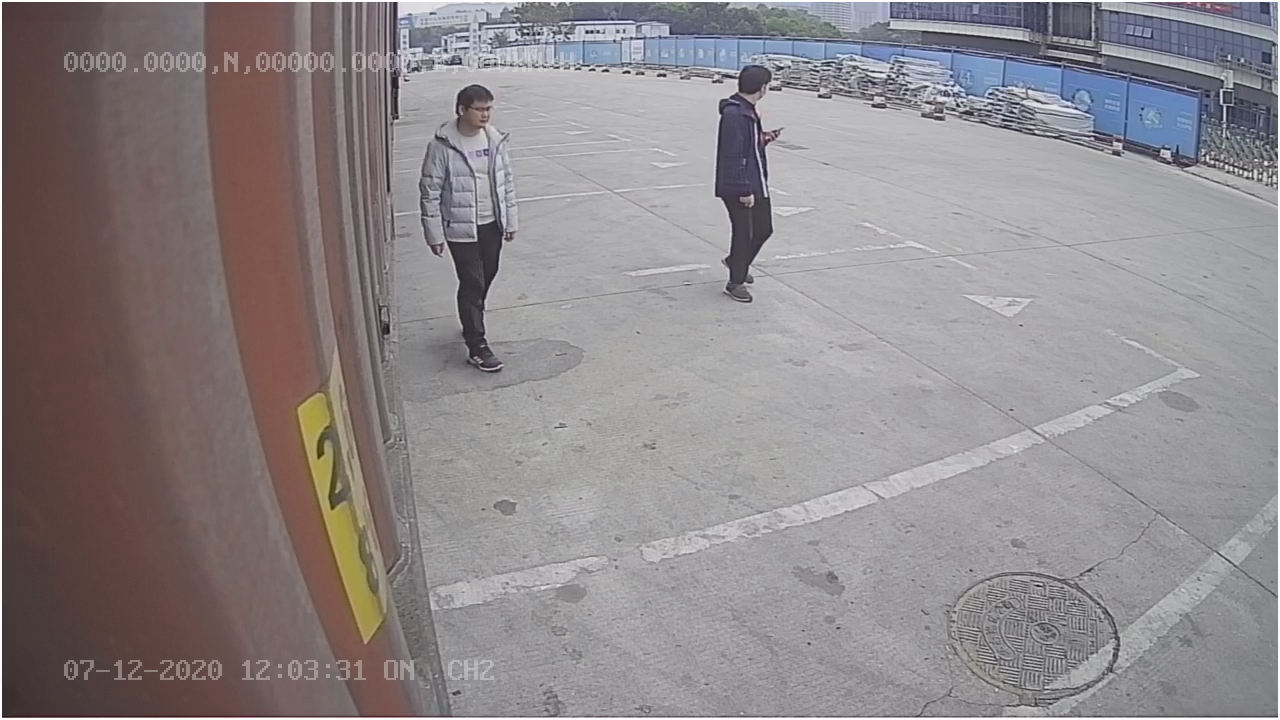person: (420, 82, 527, 372), (706, 56, 798, 312)
